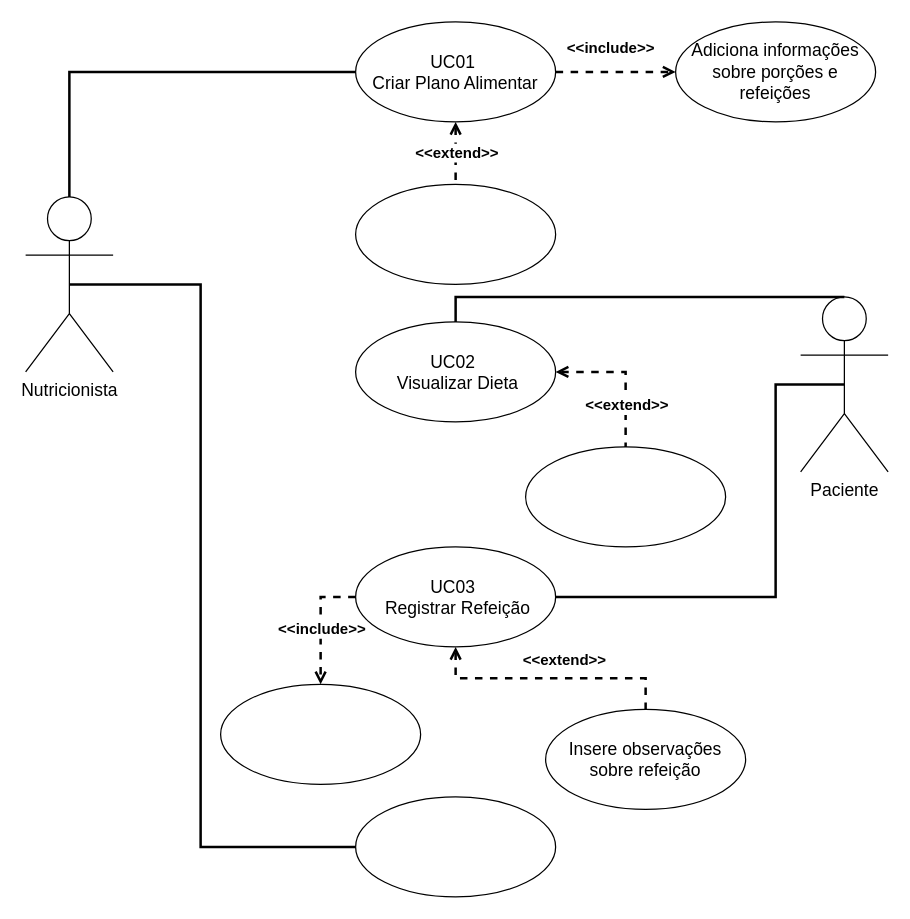
Some shapes in this 910 by 919 pixel diagram are drawn without their labels. Here are the shapes that lost their labels. From the top down, the centre of each, then its label:
At (455,233): "Duplicar dados de um plano base".
At (625,496): "Solicita alteração de plano".
At (320,733): "Seleciona os ingredientes que consumiu".
At (455,846): "UC04 Monitorar Progresso".
